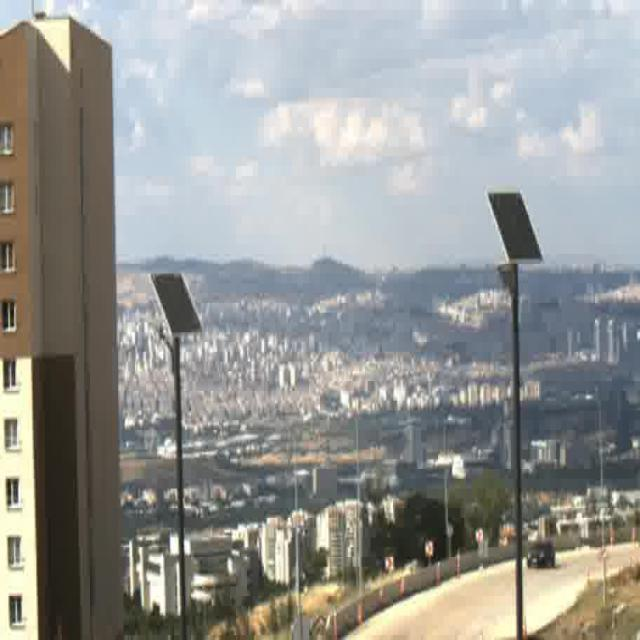Car: (528, 542, 556, 571)
